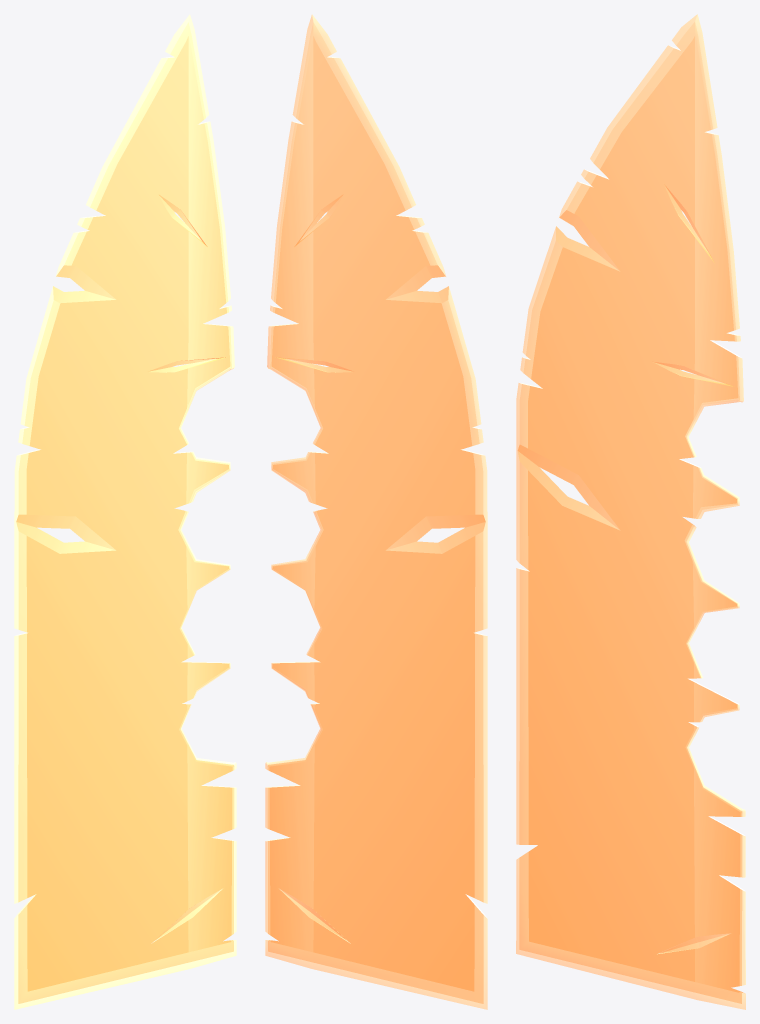
File: wood_blade_scratched_082.glb
The picture shows the model from 3 angles, left to right: view 1: azimuth 30°, elevation 25°; view 2: azimuth 150°, elevation 25°; view 3: azimuth 330°, elevation 25°; orthographic projection. The views are drawn at different scales.
Parts seen in each view (by area): view 1: wood_blade_scratched.082; view 2: wood_blade_scratched.082; view 3: wood_blade_scratched.082.
Boxes of the visible parts, left/top/right/bottom form: wood_blade_scratched.082: left=14, top=14, right=236, bottom=1009; wood_blade_scratched.082: left=265, top=14, right=487, bottom=1009; wood_blade_scratched.082: left=516, top=14, right=745, bottom=1009.
Bounding box in the file's own units: 2.79 × 11.43 × 0.0204.
1 material, 1 textured.
